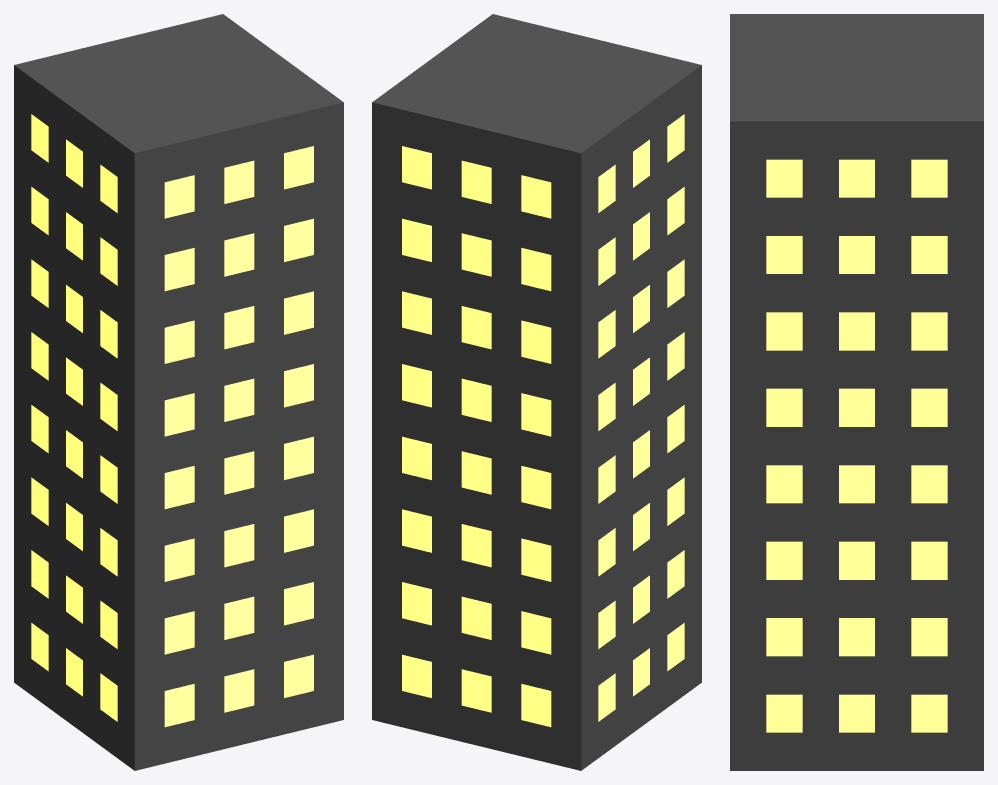
File: Building2.fbx
3 renders of one model, left to right at view 1: azimuth 30°, elevation 25°; view 2: azimuth 150°, elevation 25°; view 3: azimuth 270°, elevation 25°, orthographic. The views are drawn at different scales.
Visible parts, largest first — view 1: Cube; view 2: Cube; view 3: Cube.
Boxes of the visible parts, x1,y1,x2,y2 form: Cube: (14, 14, 343, 770); Cube: (372, 14, 701, 770); Cube: (730, 14, 983, 770).
Bounding box in the file's own units: 200 × 565 × 200.
